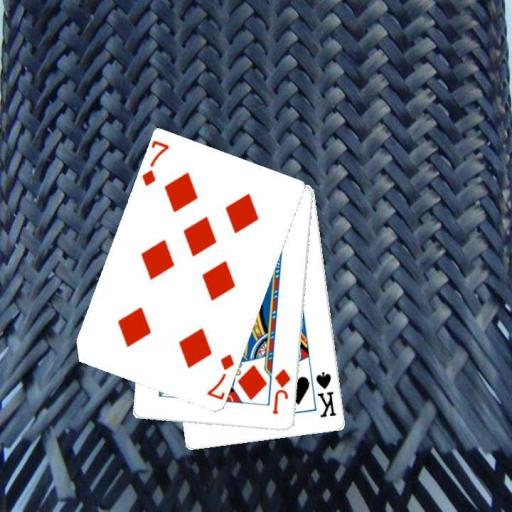7D: (203, 351, 236, 401), (140, 138, 172, 188)
JD: (269, 366, 293, 416)
KS: (313, 369, 338, 420)
